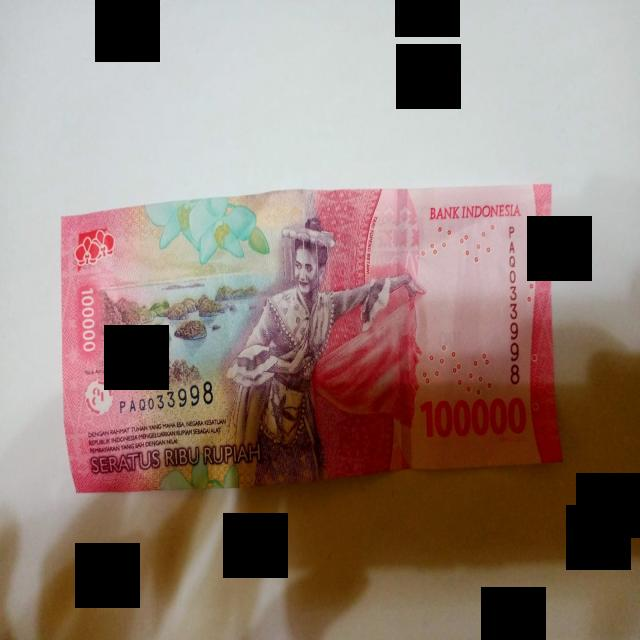seratusribu rupiah: (61, 185, 561, 492)
